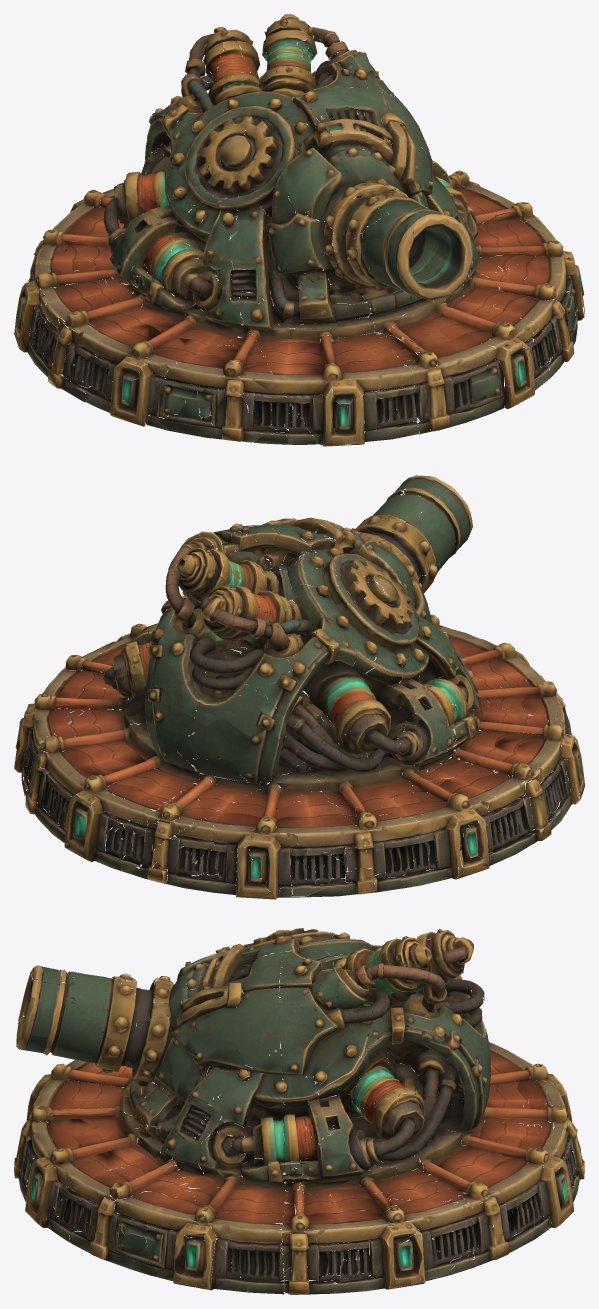
Rendered from warrior-6-tier-1.glb.
3 renders of one model, top to bottom at view 1: azimuth 30°, elevation 25°; view 2: azimuth 150°, elevation 25°; view 3: azimuth 270°, elevation 25°, orthographic.
Parts seen in each view (by area): view 1: fixed-platform, moving-assembly; view 2: fixed-platform, moving-assembly; view 3: fixed-platform, moving-assembly.
Boxes of the visible parts, x1,y1,x2,y2 form: fixed-platform: [14, 137, 584, 446]; moving-assembly: [114, 14, 472, 300]; fixed-platform: [14, 596, 584, 899]; moving-assembly: [113, 475, 472, 737]; fixed-platform: [14, 998, 584, 1294]; moving-assembly: [16, 928, 490, 1123].
Size of the model in its own units: 1.66 by 0.8302 by 1.66.
1 material, 1 textured.
